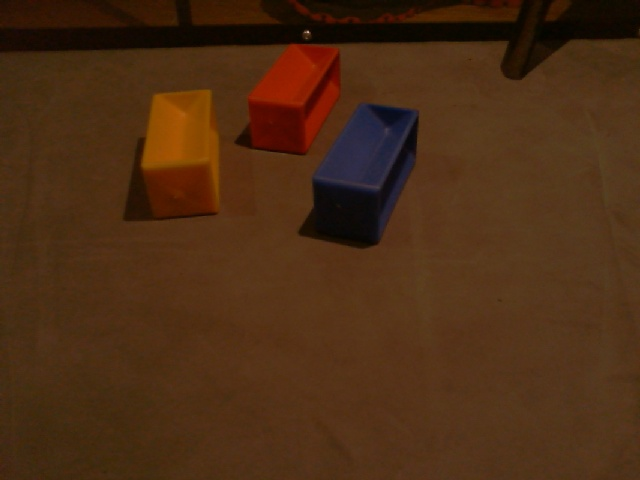BlueSample: (313, 100, 419, 249)
RedSample: (240, 40, 342, 155)
YellowSample: (140, 87, 219, 217)
